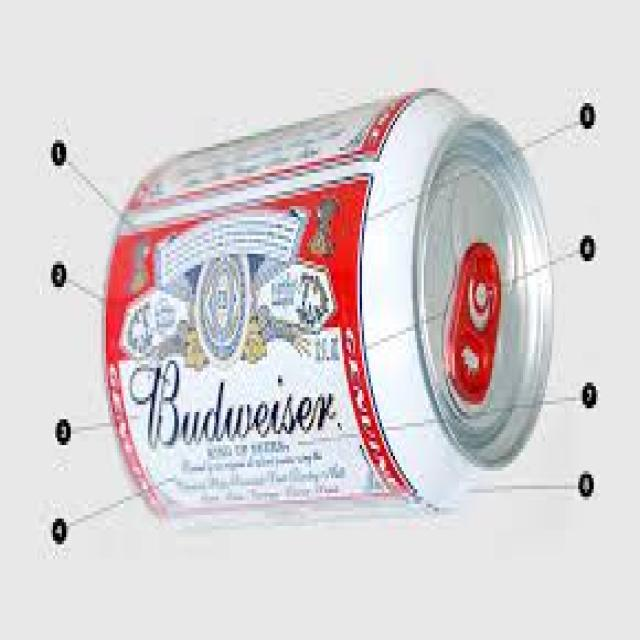metal: (104, 88, 556, 524)
